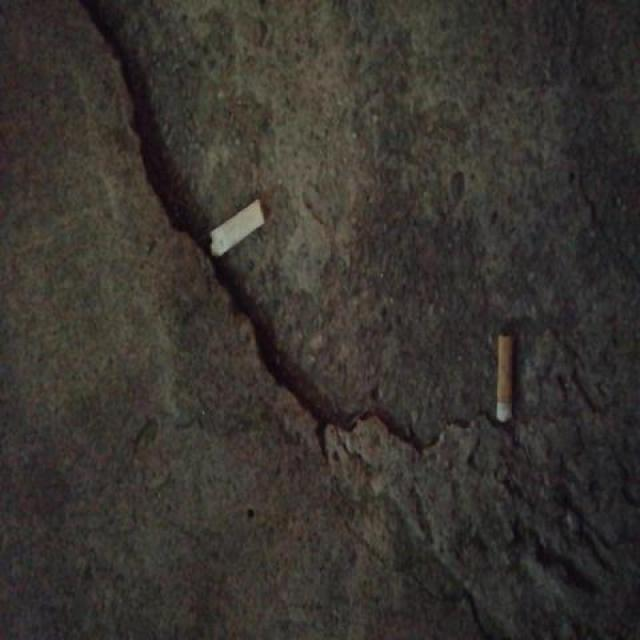non-organic waste: (205, 195, 267, 262), (492, 328, 516, 428)
